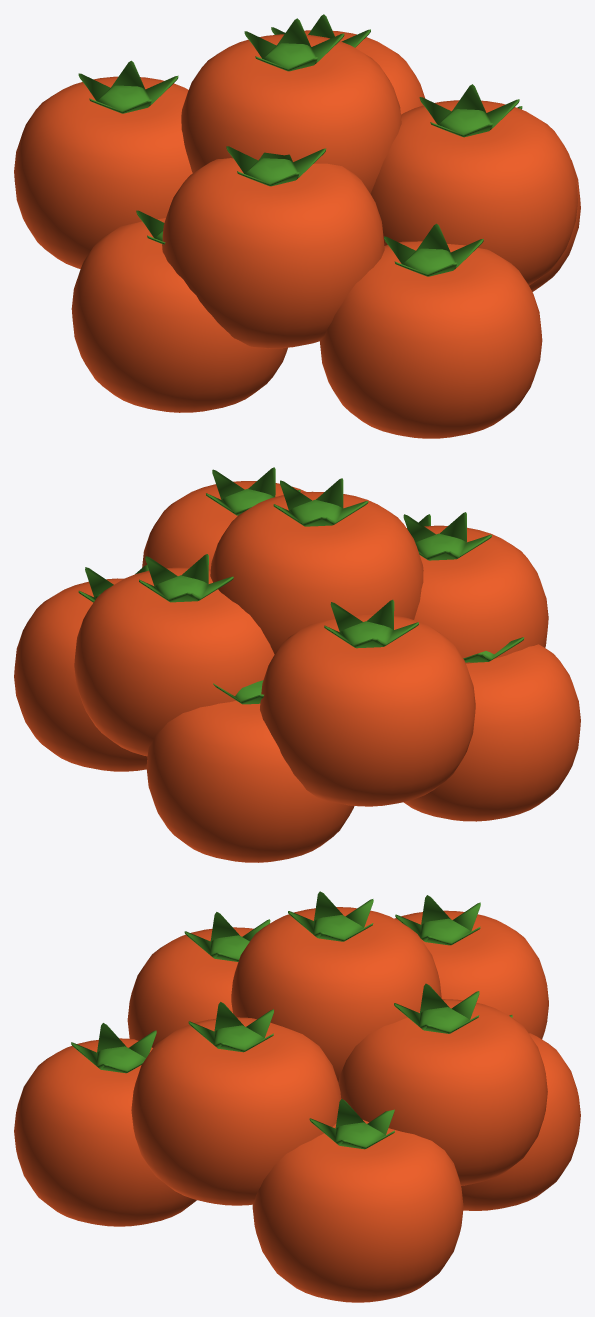
File: Tomato_Pile.fbx
The picture shows the model from 3 angles, top to bottom: view 1: azimuth 30°, elevation 25°; view 2: azimuth 150°, elevation 25°; view 3: azimuth 270°, elevation 25°; orthographic projection. The views are drawn at different scales.
Visible parts, largest first — view 1: Pile_Tomato; view 2: Pile_Tomato; view 3: Pile_Tomato.
Part boxes in pixels (<box>): Pile_Tomato: <box>14,14,580,438</box>; Pile_Tomato: <box>14,467,580,862</box>; Pile_Tomato: <box>14,891,580,1302</box>.
Size of the model in its own units: 169 by 94.27 by 170.
